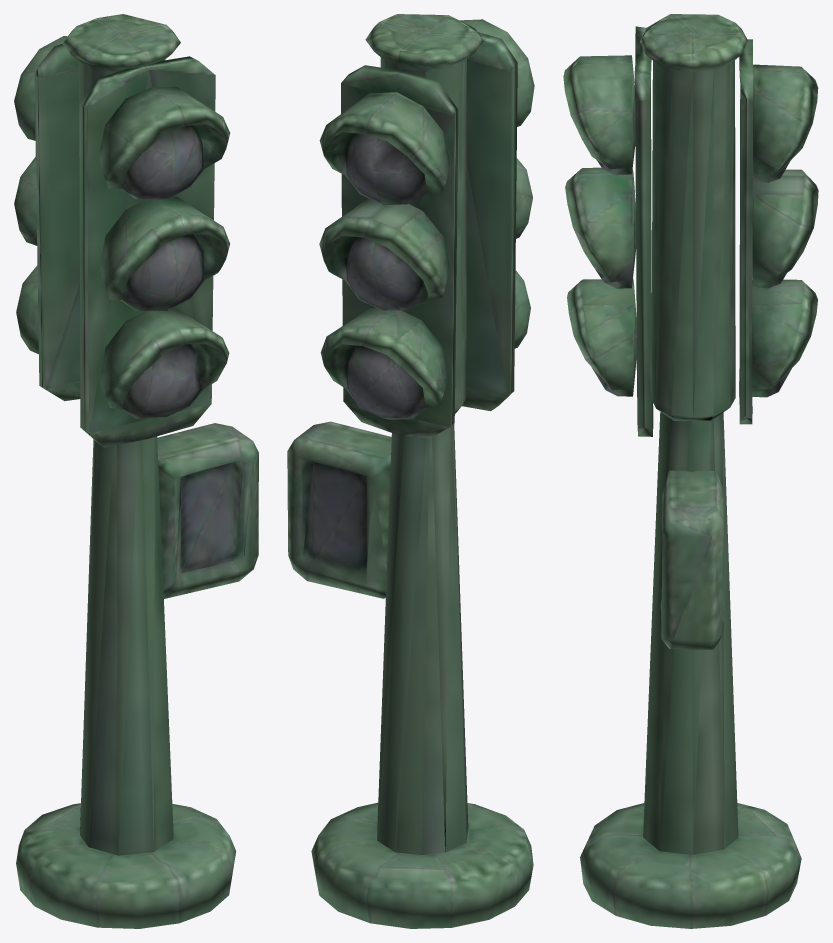
File: traffic-light.glb
3 renders of one model, left to right at view 1: azimuth 30°, elevation 25°; view 2: azimuth 150°, elevation 25°; view 3: azimuth 270°, elevation 25°, orthographic.
Visible parts, largest first — view 1: geometry_0; view 2: geometry_0; view 3: geometry_0.
Boxes of the visible parts, <box> form: geometry_0: <box>14,14,258,928</box>; geometry_0: <box>287,14,534,928</box>; geometry_0: <box>563,14,818,928</box>.
Bounding box in the file's own units: 0.2703 × 1 × 0.2728.
1 material, 1 textured.
